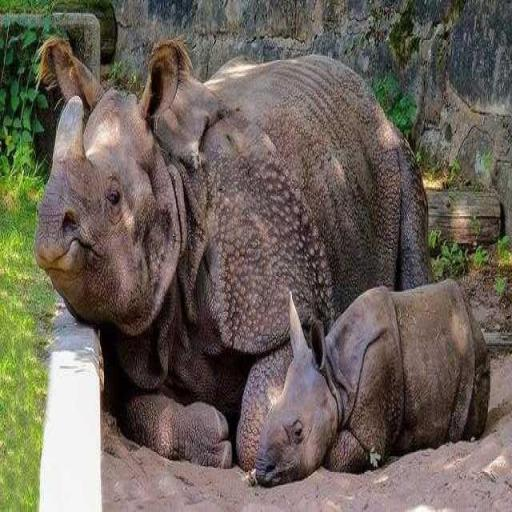Rhino: (34, 33, 431, 470), (249, 276, 490, 488)
